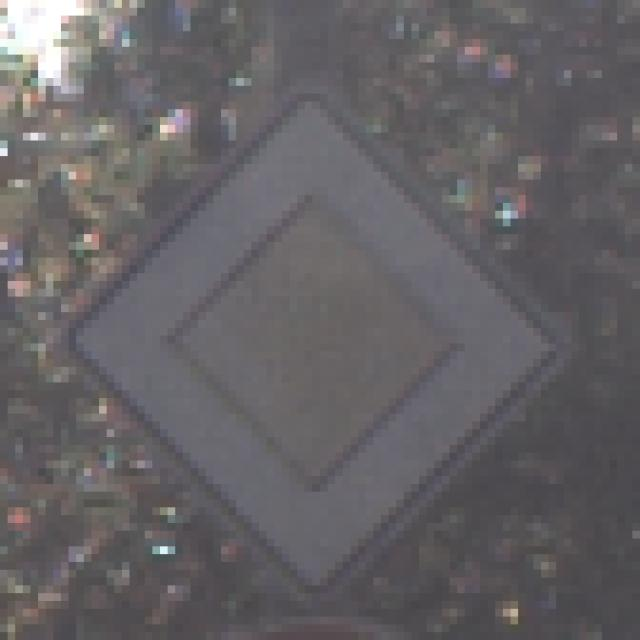Main Road: (62, 56, 588, 579)
